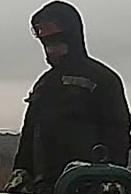gloves: (2, 163, 31, 194)
helmet: (29, 17, 67, 41)
vest: (25, 58, 130, 193)
